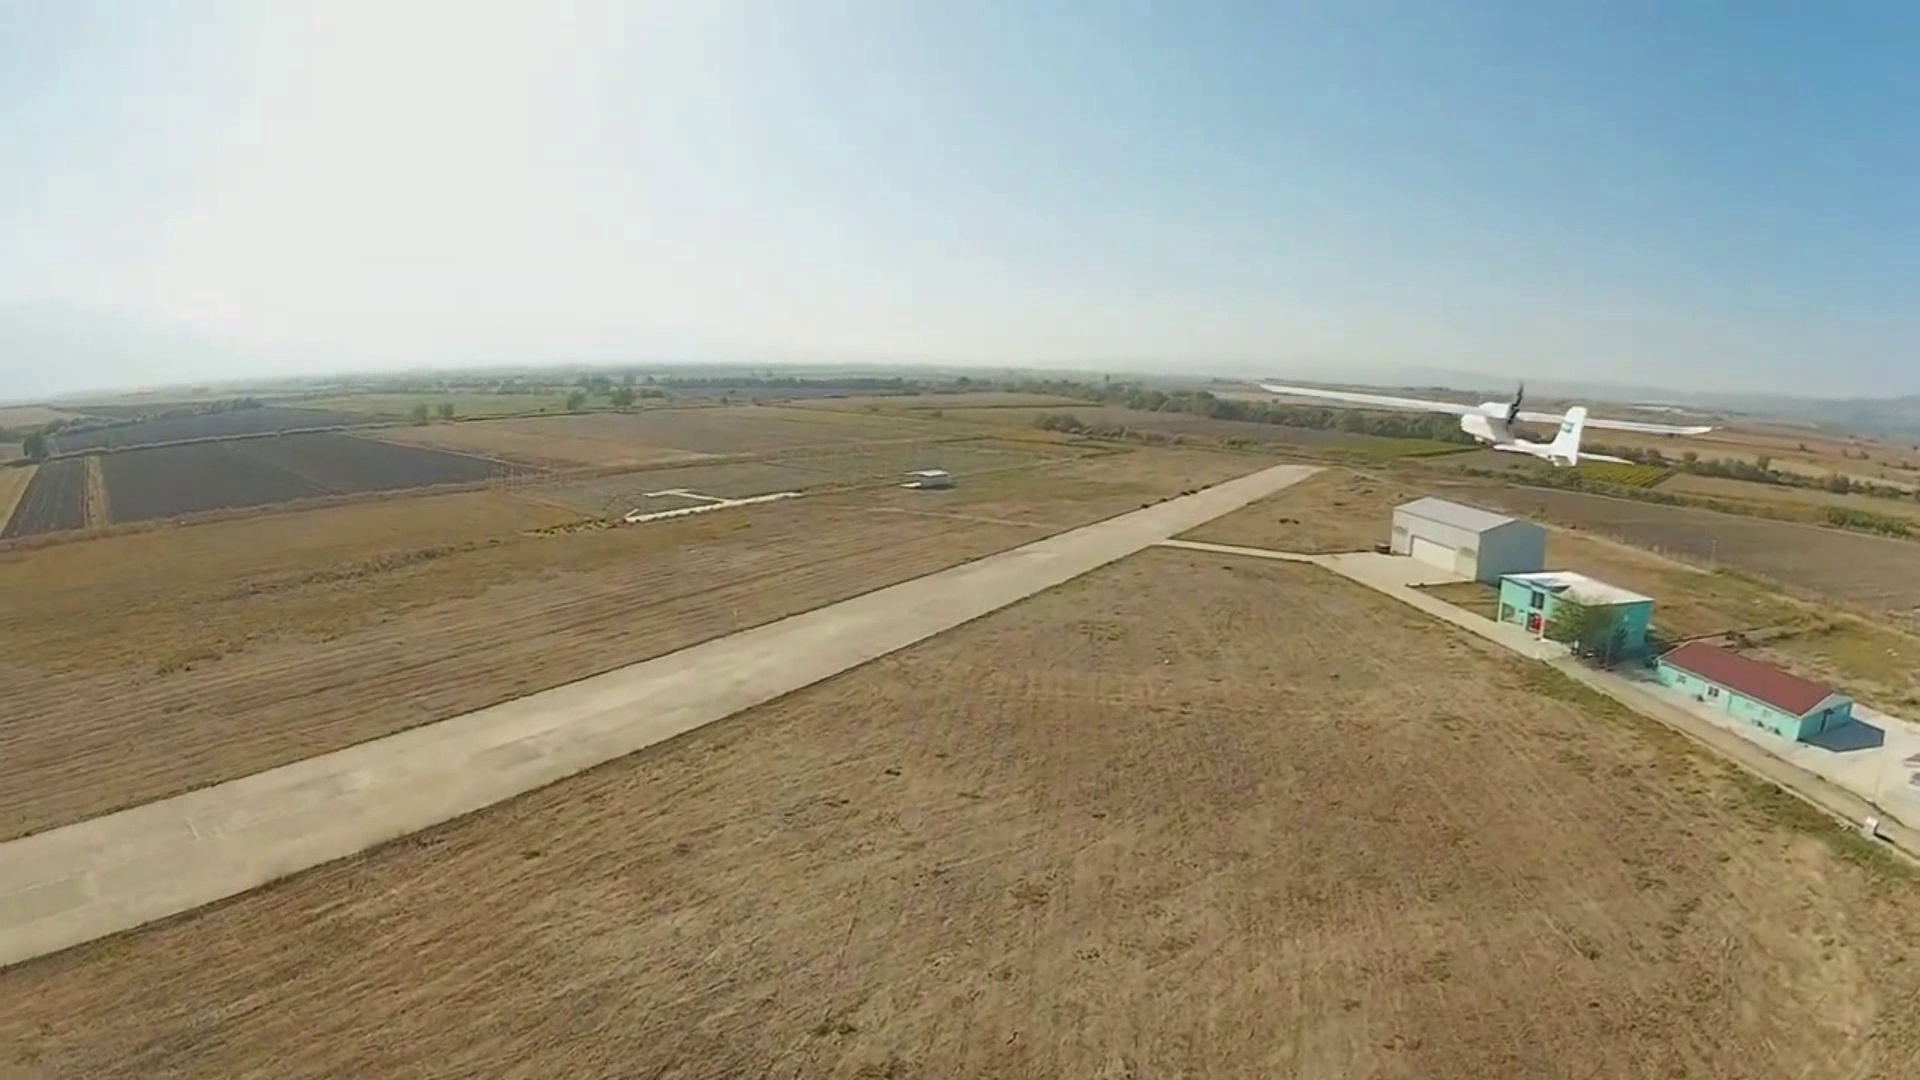airplane: (1203, 377, 1720, 473)
